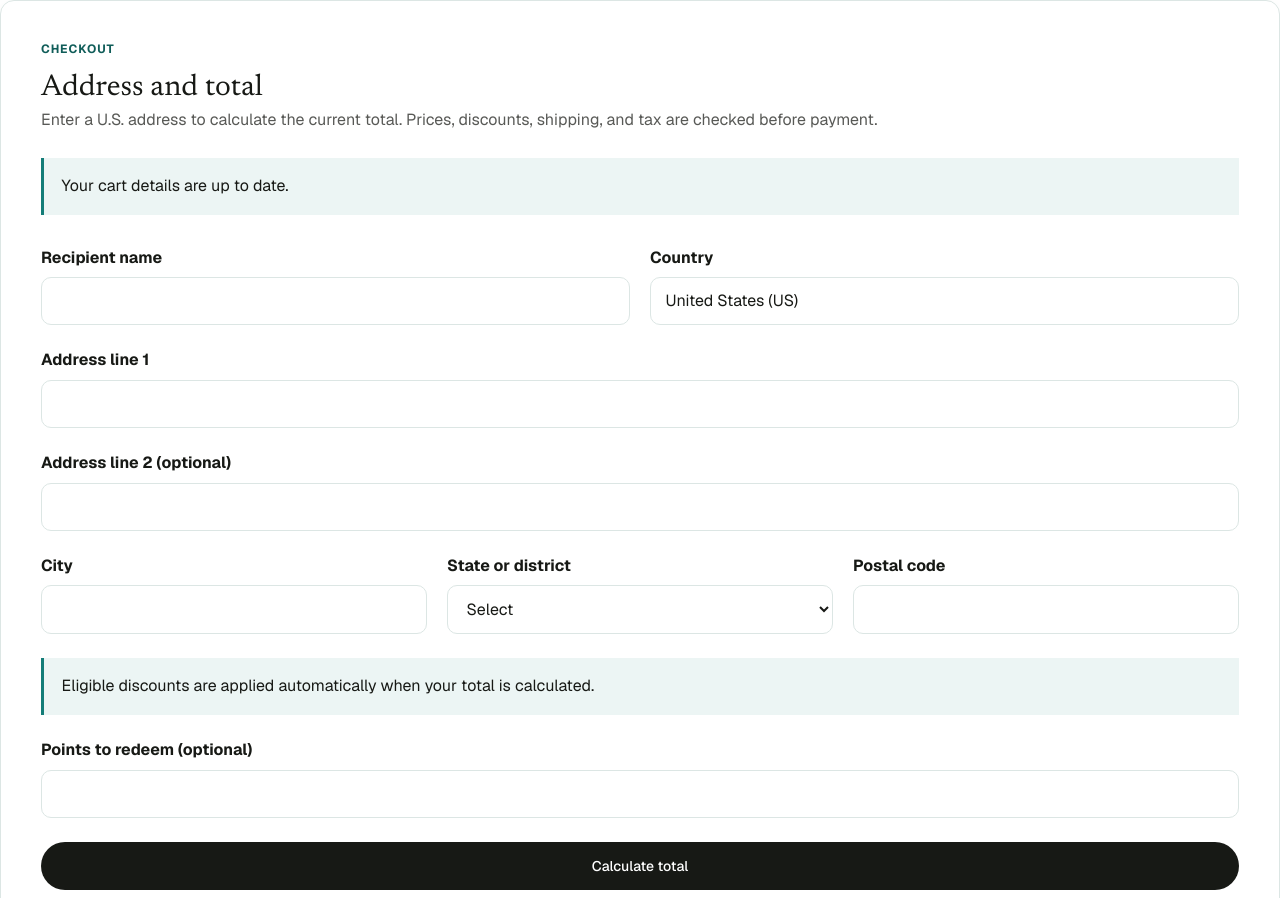
Test: CheckoutForm › sends only variant authority and destination when requesting a quote
Type "Synthetic Research Buyer" into the field labelled "Recipient name" at {"x": 336, "y": 301}, box top-left (41, 277), bottom-right (630, 325)
Type "100 Test Way" into the field labelled "Address line 1" at {"x": 640, "y": 404}, box top-left (41, 380), bottom-right (1239, 428)
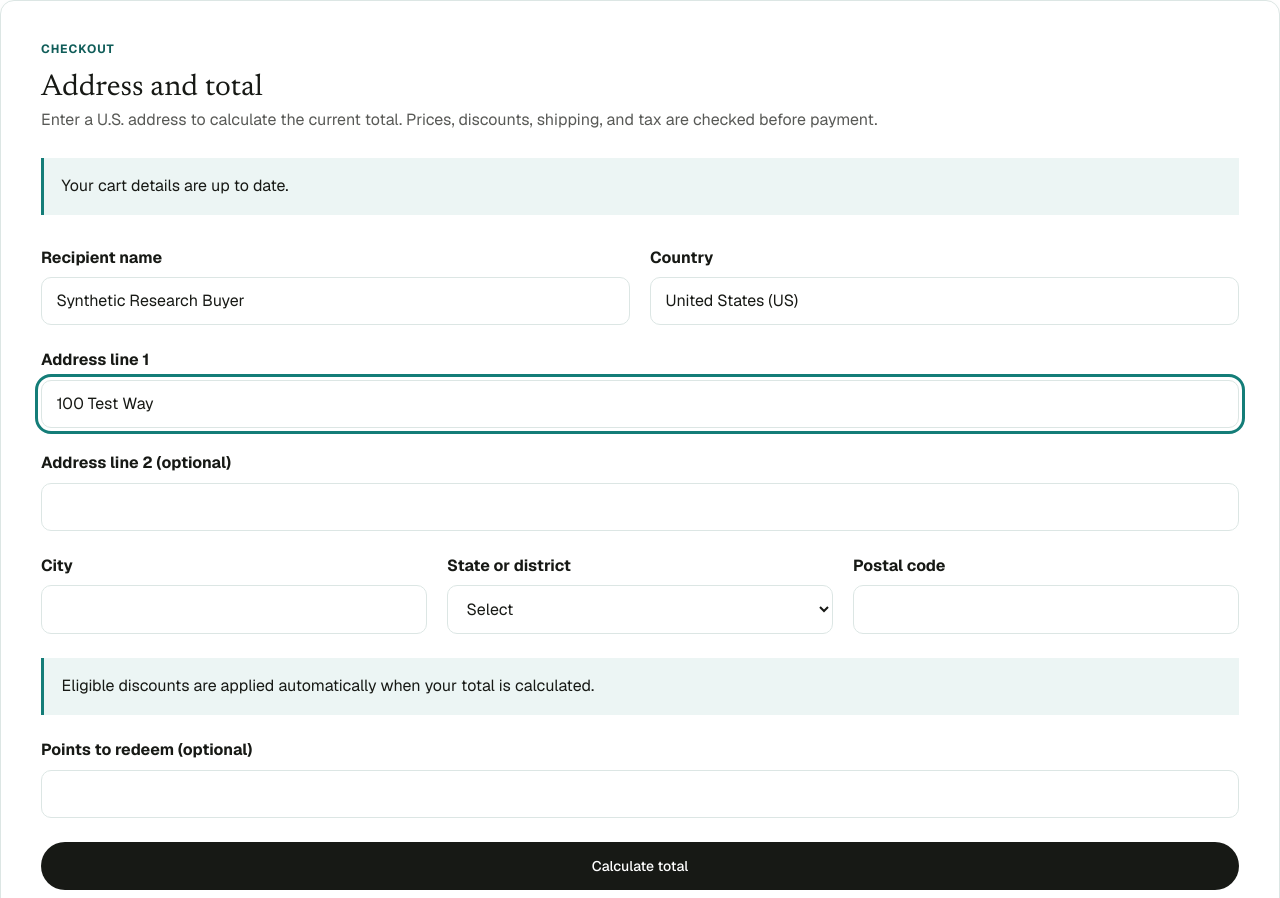
Type "Los Angeles" into the field labelled "City" at {"x": 234, "y": 610}, box top-left (41, 585), bottom-right (427, 634)
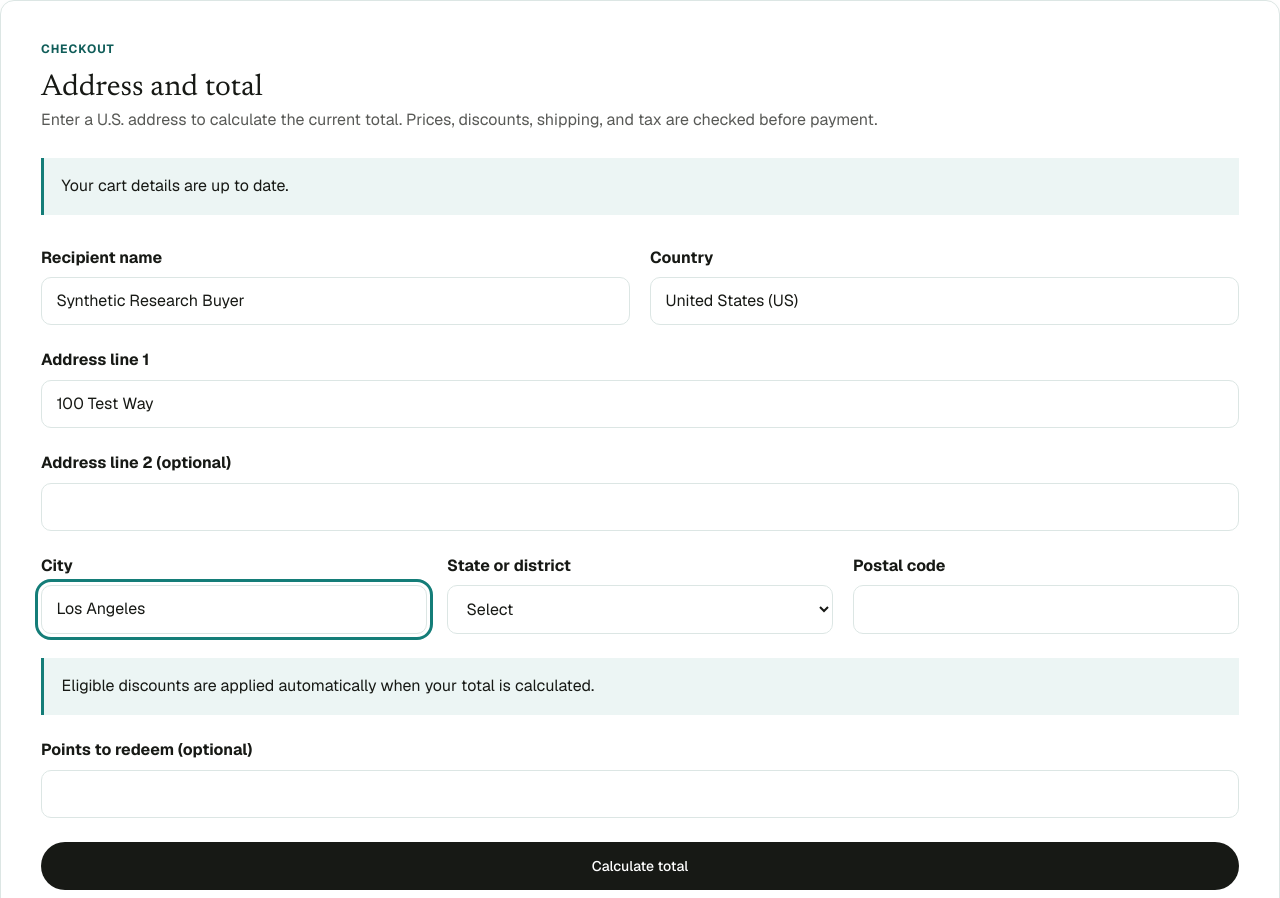
Select "CA" in the dropdown labelled "State or district" at {"x": 640, "y": 610}, box top-left (447, 585), bottom-right (833, 634)
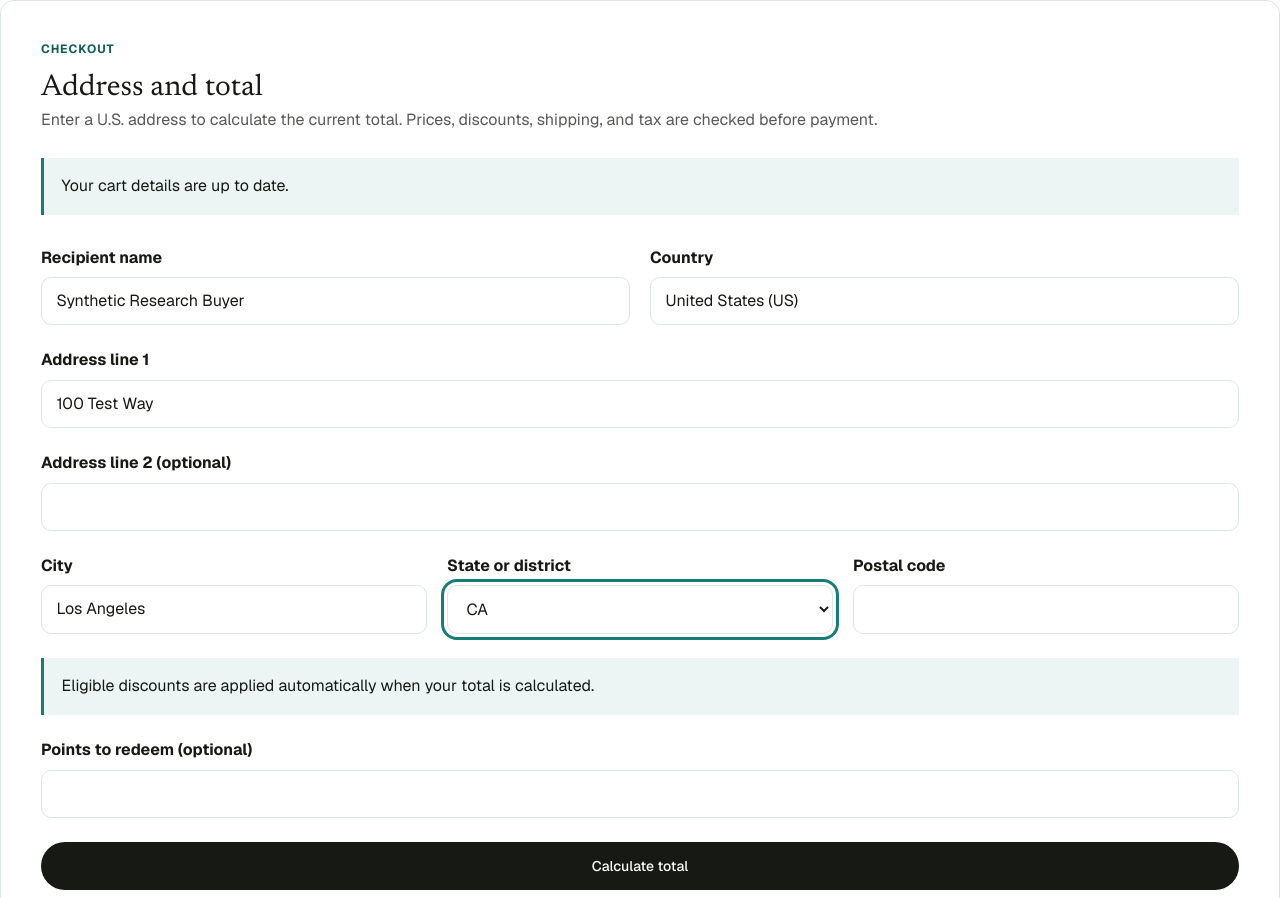
Type "90001" into the field labelled "Postal code" at {"x": 1046, "y": 610}, box top-left (853, 585), bottom-right (1239, 634)
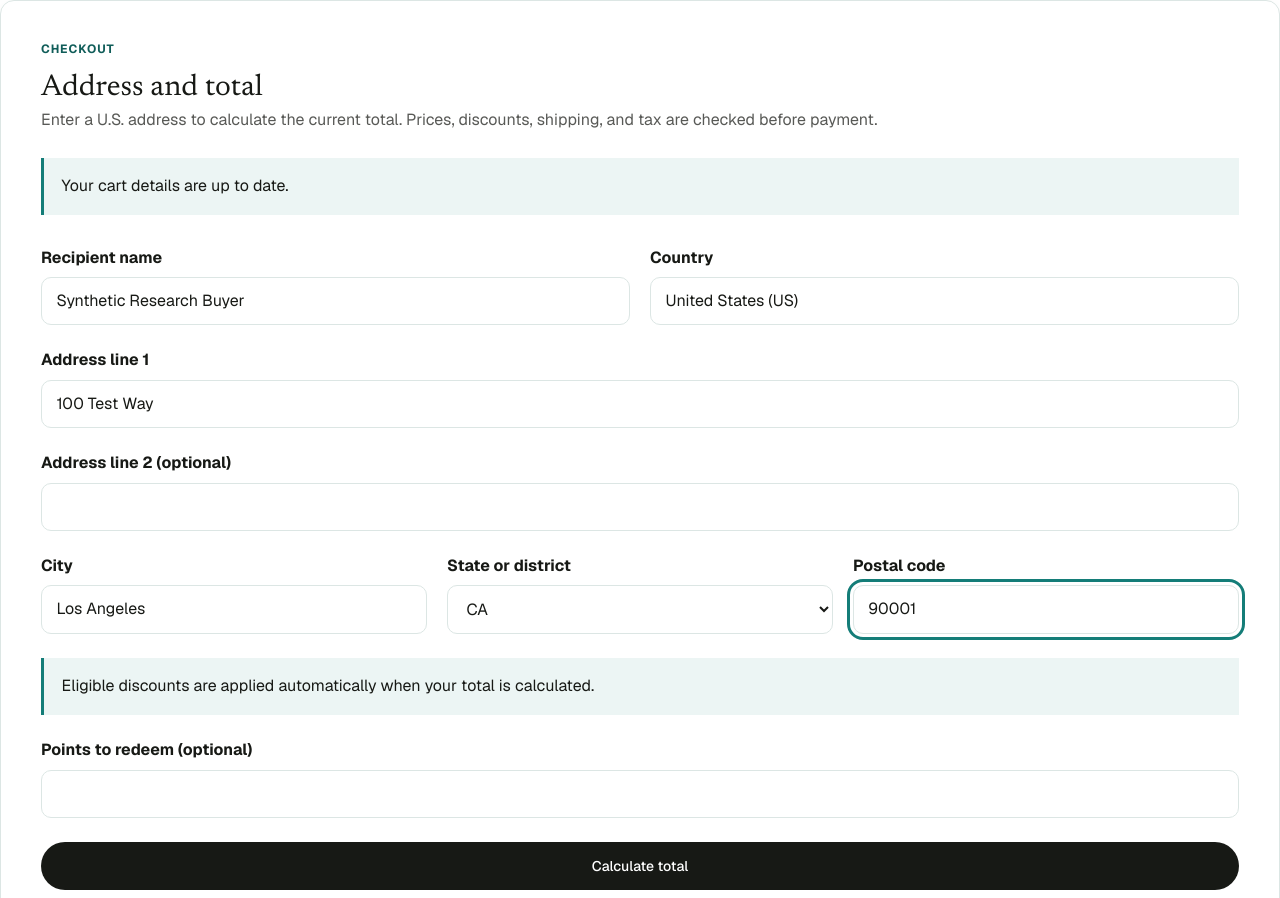
Type "250" into the number field labelled "Points to redeem (optional)" at {"x": 640, "y": 794}, box top-left (41, 770), bottom-right (1239, 818)
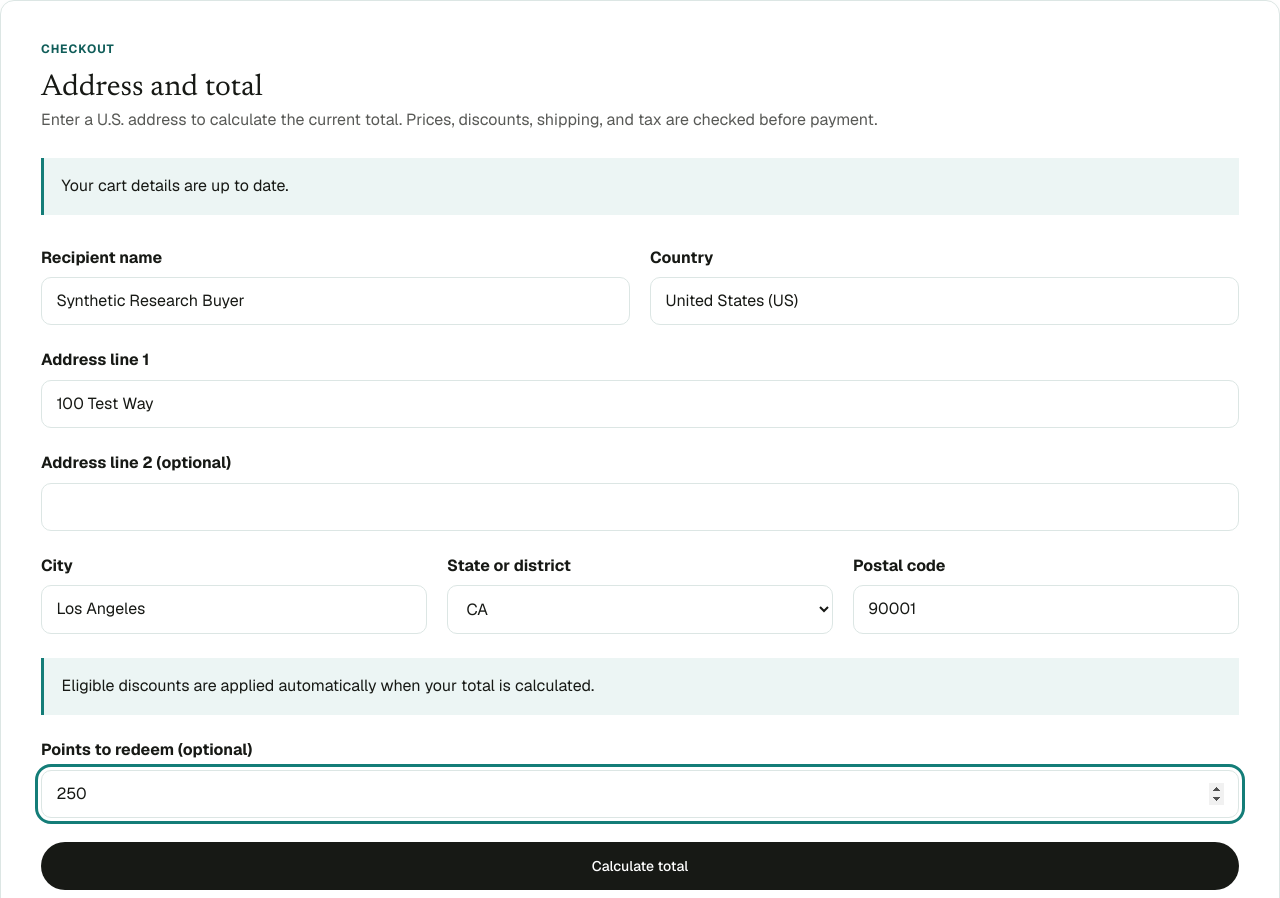
Click the button "Calculate total" at {"x": 640, "y": 866}, box top-left (41, 842), bottom-right (1239, 890)
(page scrolled)
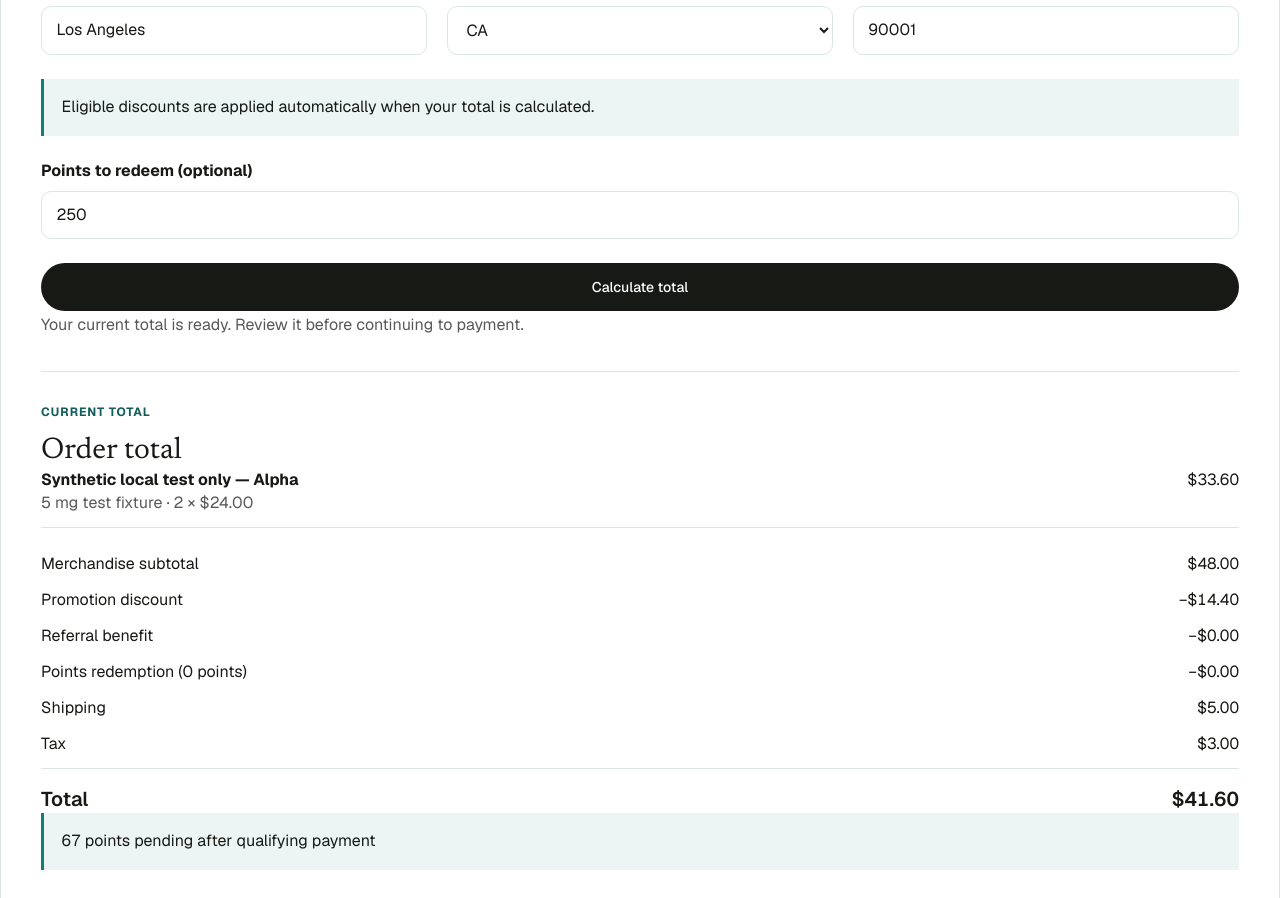
Result: the heading "Order total" is shown at top-left (41, 436), bottom-right (182, 466)
